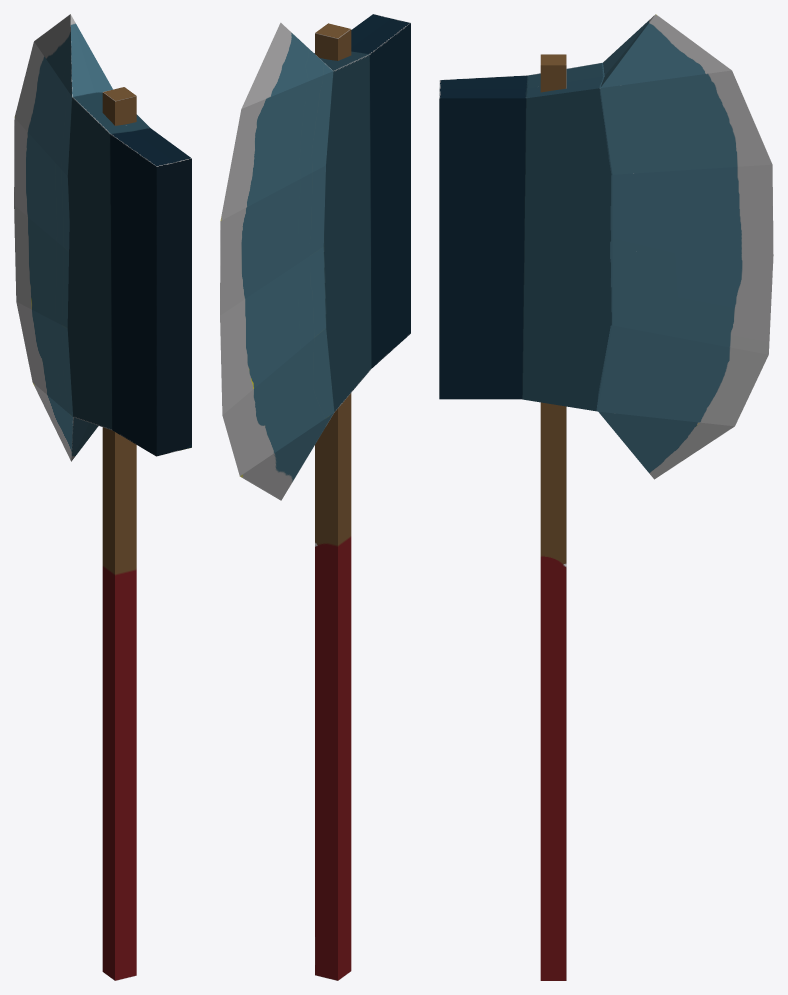
Rendered from RAxe.glb.
3 views of the same model, side by side, from view 1: azimuth 30°, elevation 25°; view 2: azimuth 150°, elevation 25°; view 3: azimuth 270°, elevation 25° (orthographic). The views are drawn at different scales.
Visible parts, largest first — view 1: GoldenAxe; view 2: GoldenAxe; view 3: GoldenAxe.
Boxes of the visible parts, x1,y1,x2,y2 form: GoldenAxe: (14, 14, 191, 980); GoldenAxe: (220, 14, 410, 980); GoldenAxe: (439, 14, 773, 980).
Bounding box in the file's own units: 0.0983 × 2.1 × 0.6613.
1 material, 1 textured.
